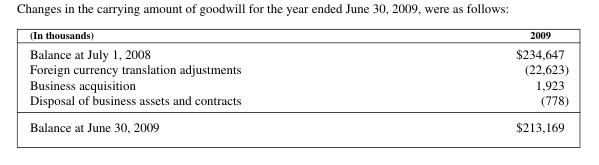table: (28, 28, 568, 134)
table column: (28, 28, 377, 134), (377, 28, 568, 134)
table column header: (28, 28, 568, 43)
table row: (28, 92, 568, 113), (28, 113, 568, 134), (28, 43, 568, 61), (28, 76, 568, 92), (28, 28, 568, 43), (28, 61, 568, 76)
